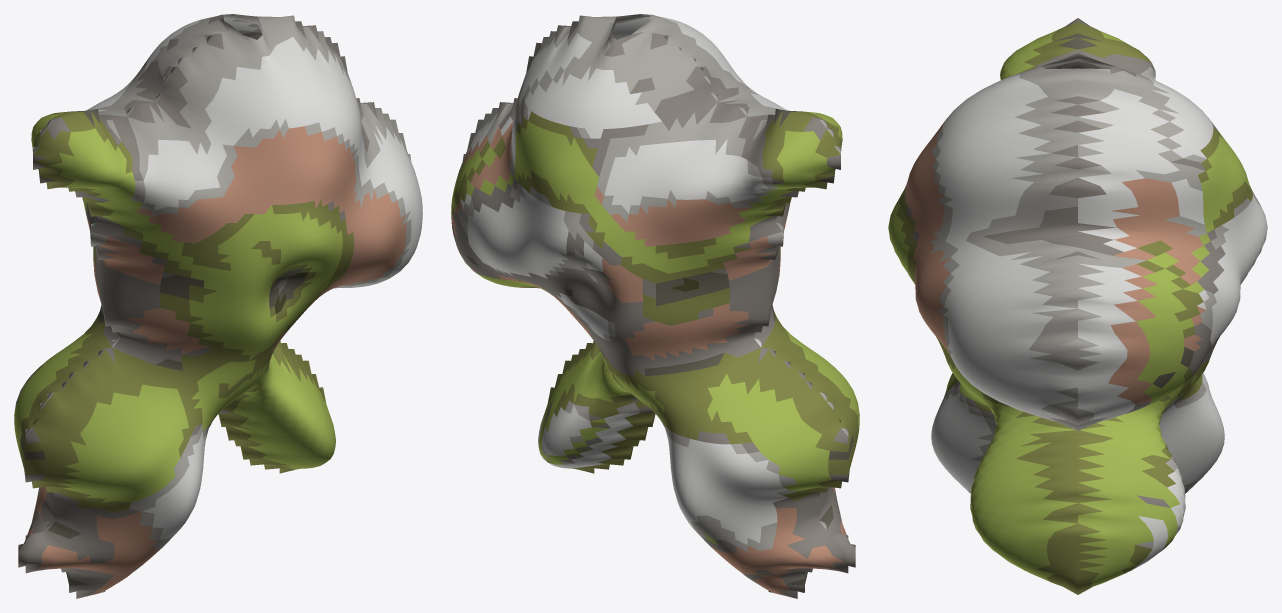
File: mugunga.glb
The picture shows the model from 3 angles, left to right: view 1: azimuth 30°, elevation 25°; view 2: azimuth 150°, elevation 25°; view 3: azimuth 270°, elevation 25°; orthographic projection. The views are drawn at different scales.
Parts seen in each view (by area): view 1: mugunga; view 2: mugunga; view 3: mugunga.
Part boxes in pixels (x1,y1,x2,y2): mugunga: (14,14,422,598); mugunga: (451,14,859,598); mugunga: (888,18,1267,594).
Size of the model in its own units: 313 by 410 by 239.
